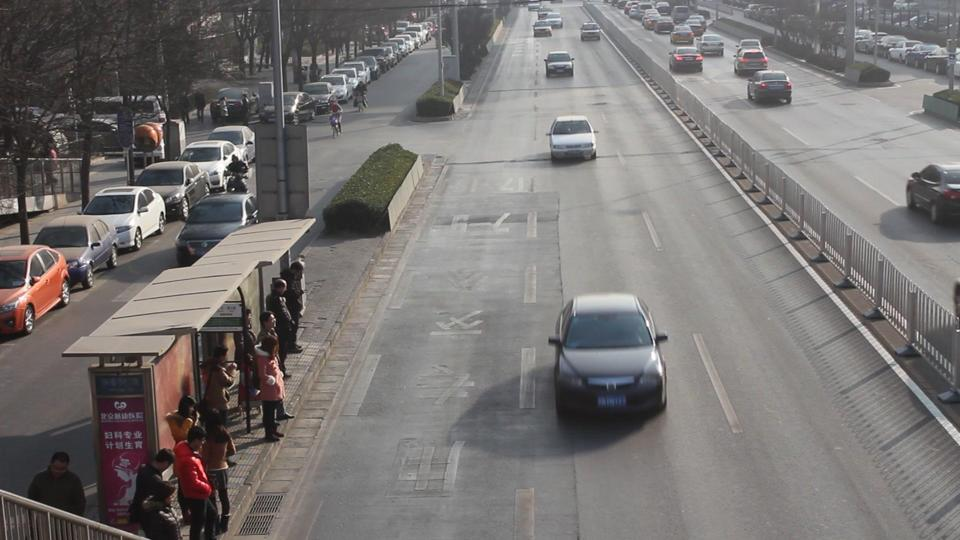bicycle: (330, 111, 342, 137)
car: (549, 292, 670, 419), (0, 243, 72, 341), (31, 214, 121, 291), (174, 193, 260, 265), (79, 186, 168, 252), (131, 160, 212, 221), (905, 162, 959, 226), (176, 143, 243, 191), (547, 114, 598, 161), (207, 125, 258, 168), (746, 70, 794, 104), (320, 72, 358, 101), (905, 44, 946, 70), (733, 49, 769, 77), (668, 47, 705, 73), (302, 81, 338, 106), (360, 47, 396, 71), (545, 51, 575, 77), (339, 61, 374, 83), (696, 34, 724, 56), (735, 39, 765, 55), (534, 15, 561, 32), (682, 14, 707, 32), (670, 28, 695, 45), (580, 22, 602, 41), (653, 18, 677, 34), (533, 21, 554, 38)
person: (26, 451, 89, 535), (130, 449, 185, 540), (173, 441, 216, 540), (203, 410, 240, 523), (252, 345, 292, 443), (264, 279, 304, 355), (216, 345, 246, 425), (174, 395, 205, 467), (328, 97, 344, 135)
